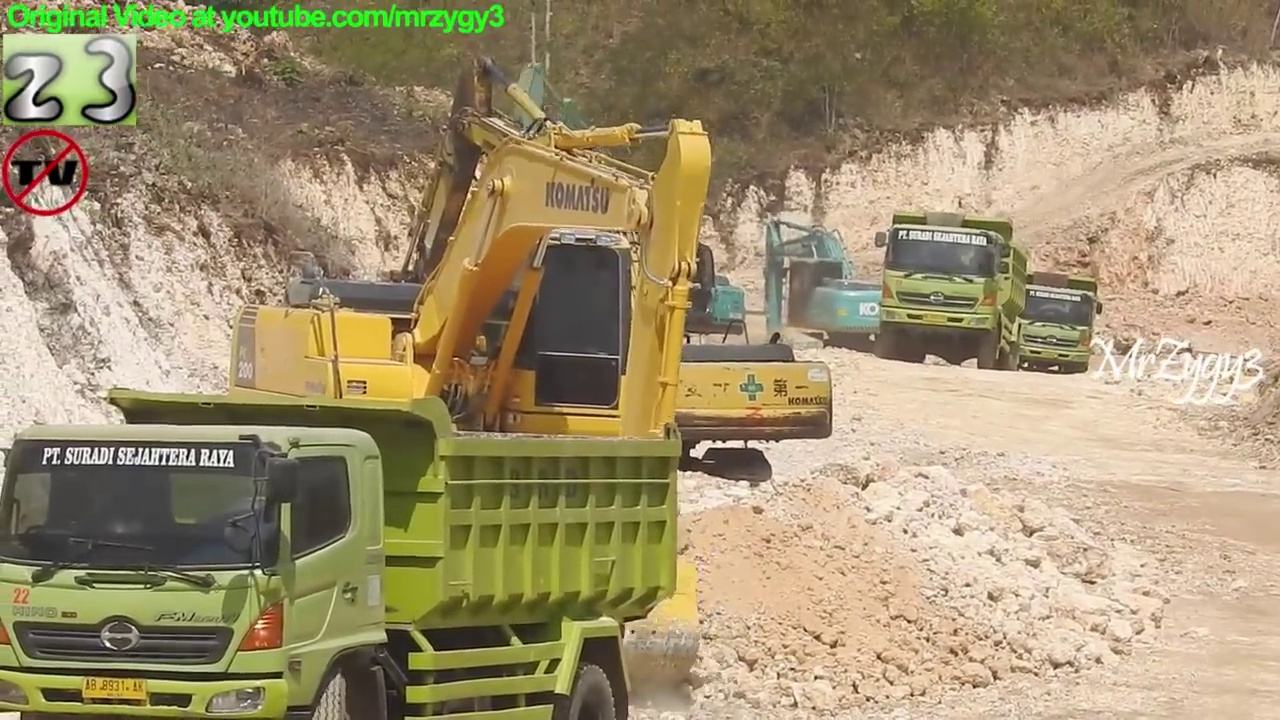excavator: (182, 116, 719, 705), (362, 51, 838, 506), (477, 59, 757, 369), (748, 213, 900, 364)
truck: (1, 383, 683, 720), (871, 209, 1031, 374), (992, 267, 1109, 381)
